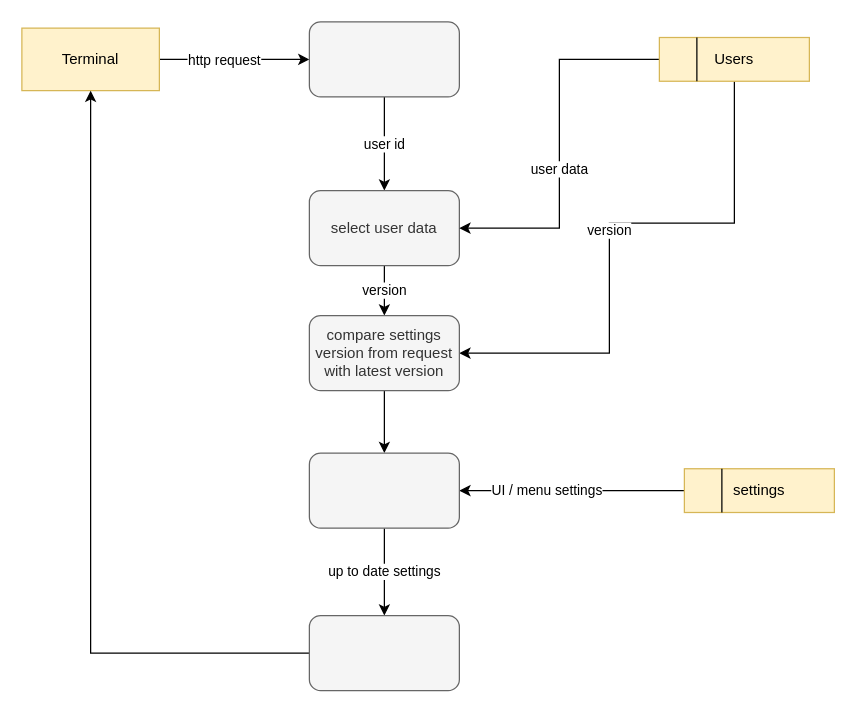
Image size: 856x713. Some labels were removed from this diagram. Each missing label, with the centre of its shape:
create settings object: (x=383, y=490)
extract claims from token: (x=383, y=59)
send settings and process successful response: (x=383, y=652)
